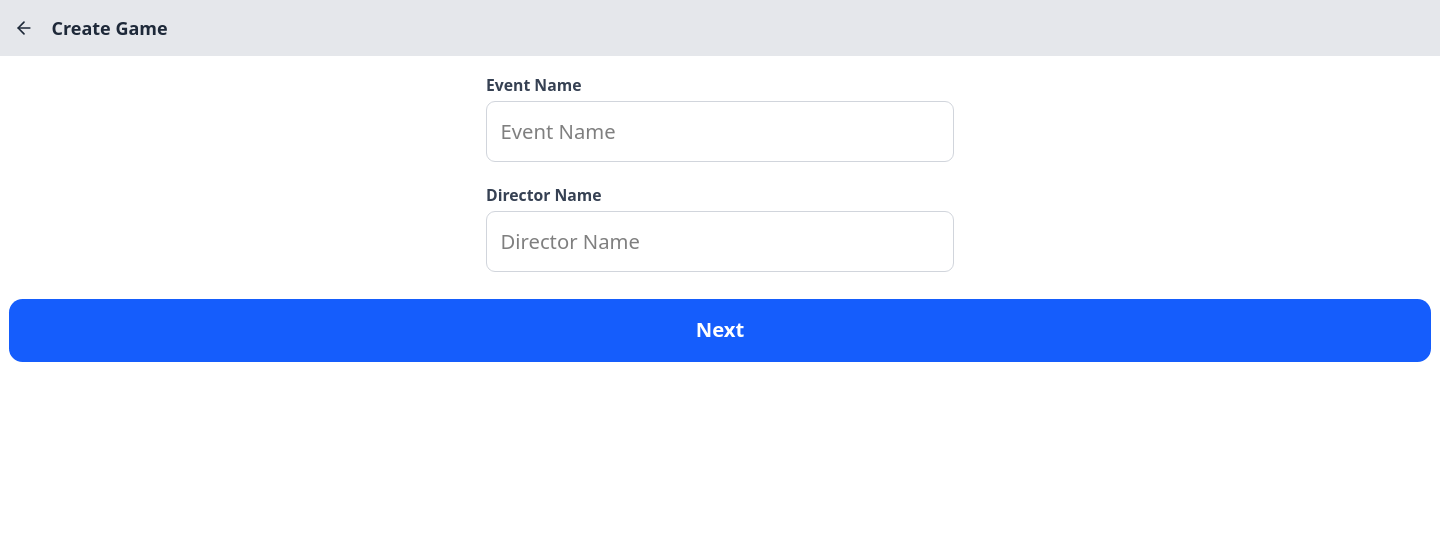
Test: CreateGamePage › advances once both details are filled
Type "Tuesday Pairs" into the field labelled "Event Name".
click(720, 131); type("Tuesday Pairs")  # box [486, 101, 954, 162]
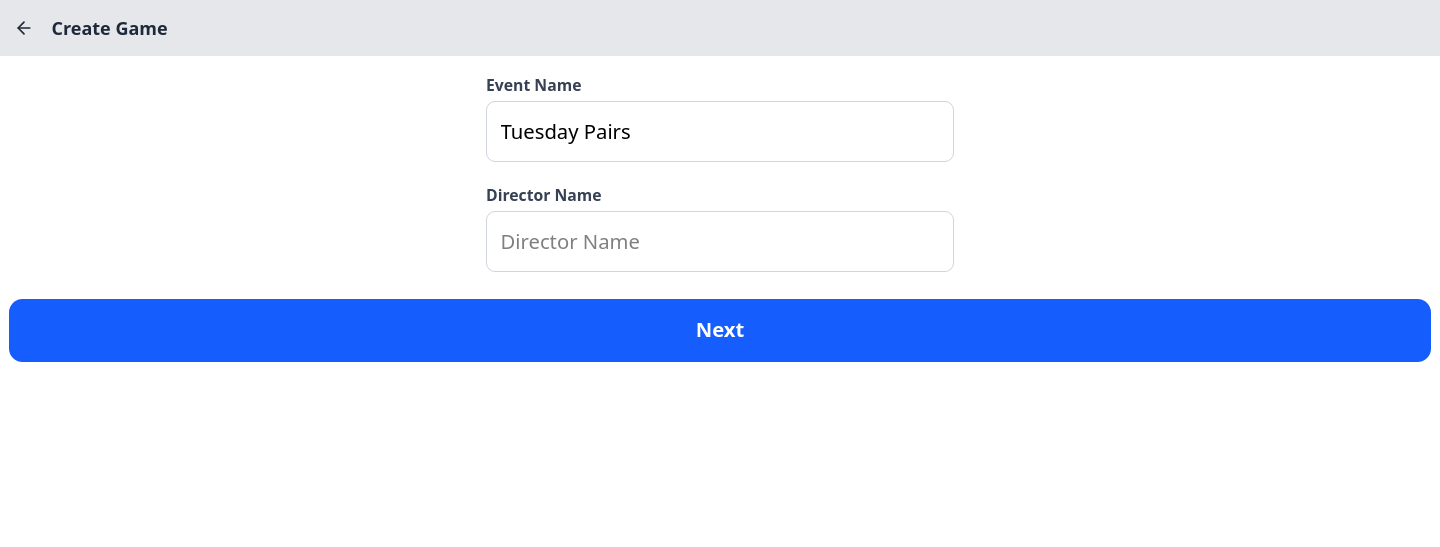
Type "Jane" into the field labelled "Director Name".
click(720, 241); type("Jane")  # box [486, 211, 954, 272]
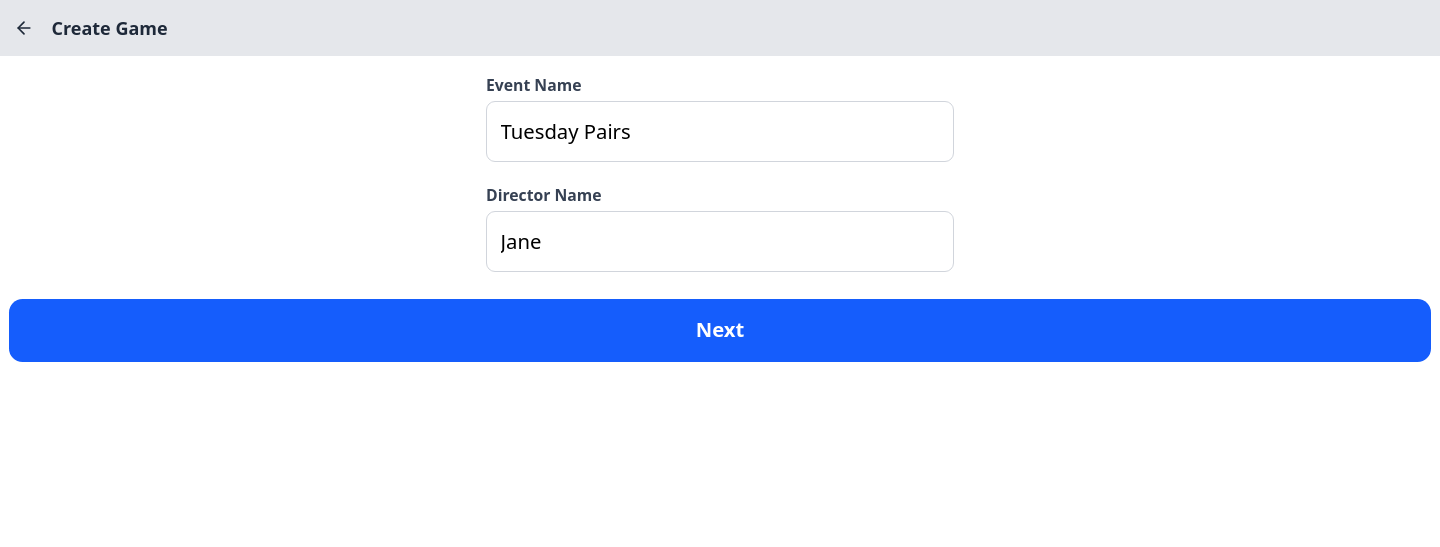
Click the button "Next".
click(720, 330)  # box [9, 298, 1431, 362]
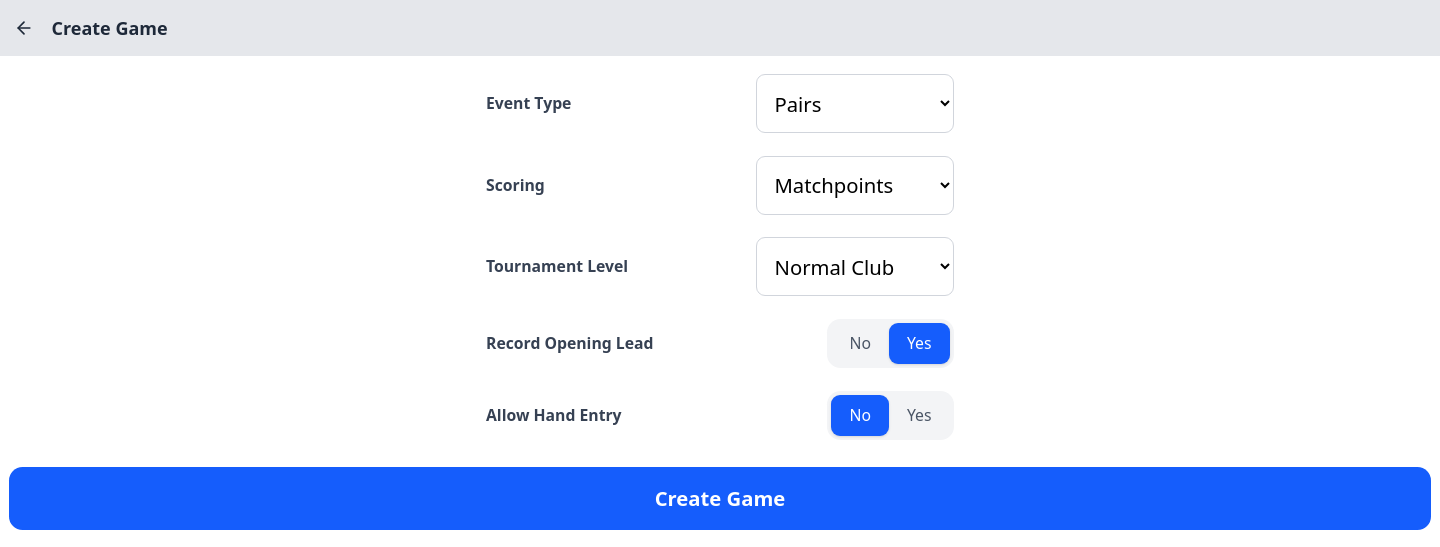
Check: the dropdown labelled "Event Type" is shown, box [756, 74, 954, 133]
